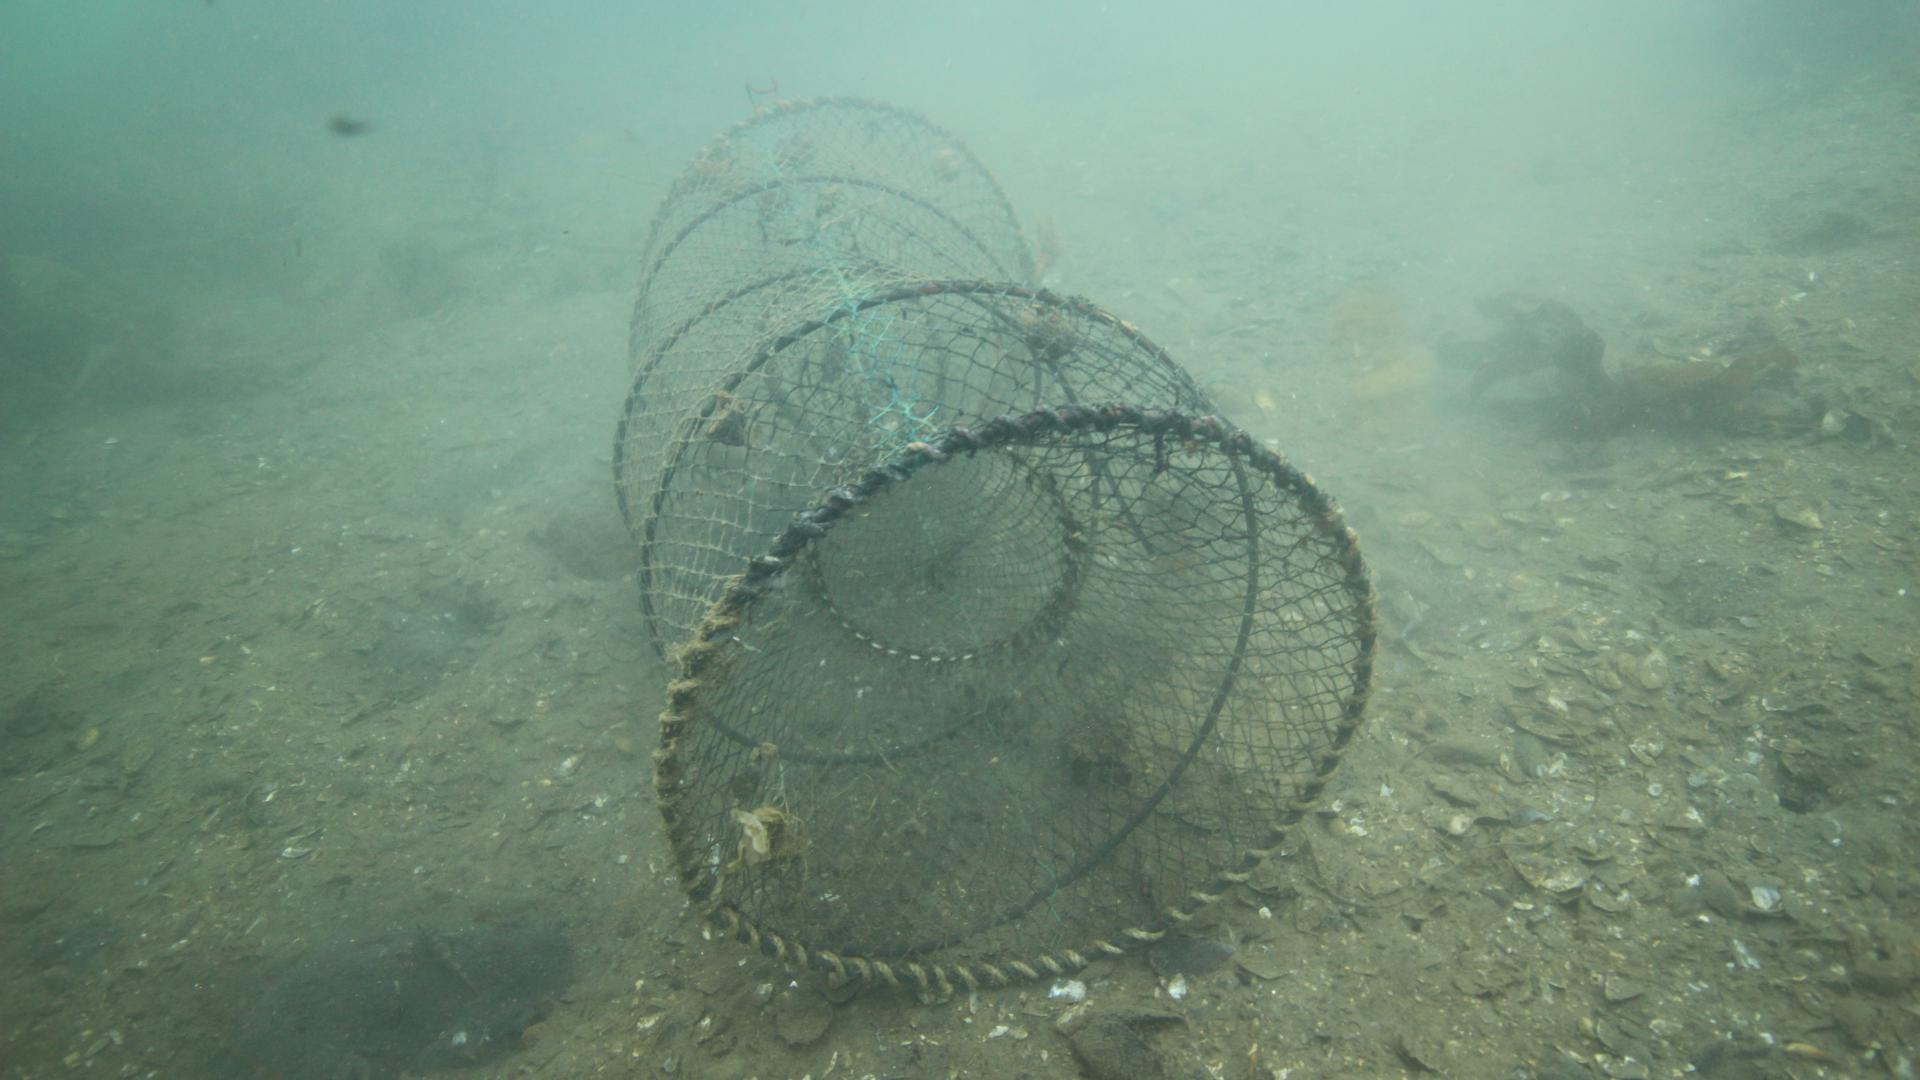spring fish trap: (611, 95, 1377, 986)
